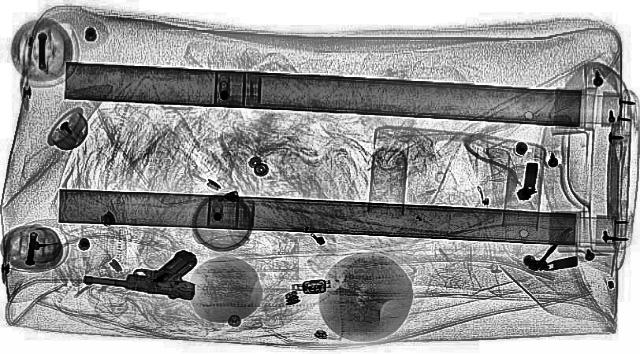Gun: (82, 250, 200, 298)
